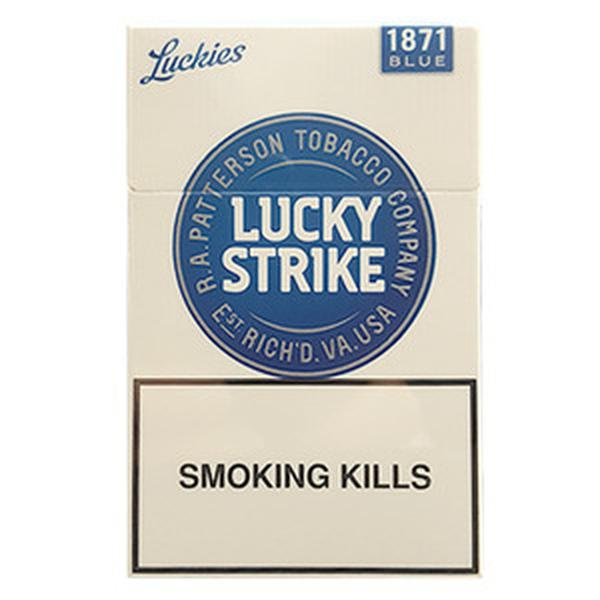lucky_strike_blue: (132, 27, 478, 574)
